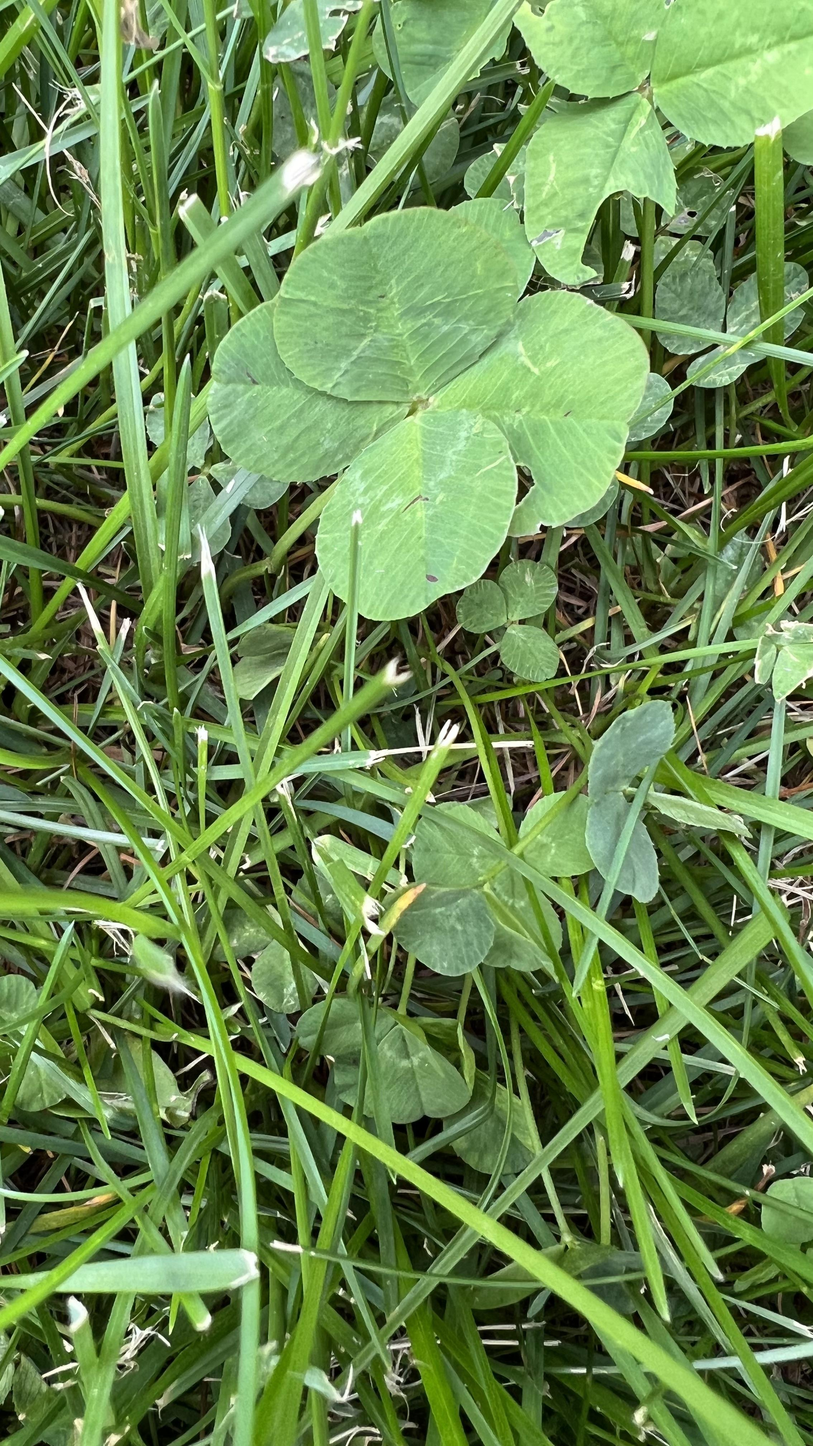4-Leaf-Clovers: (209, 197, 642, 609)
